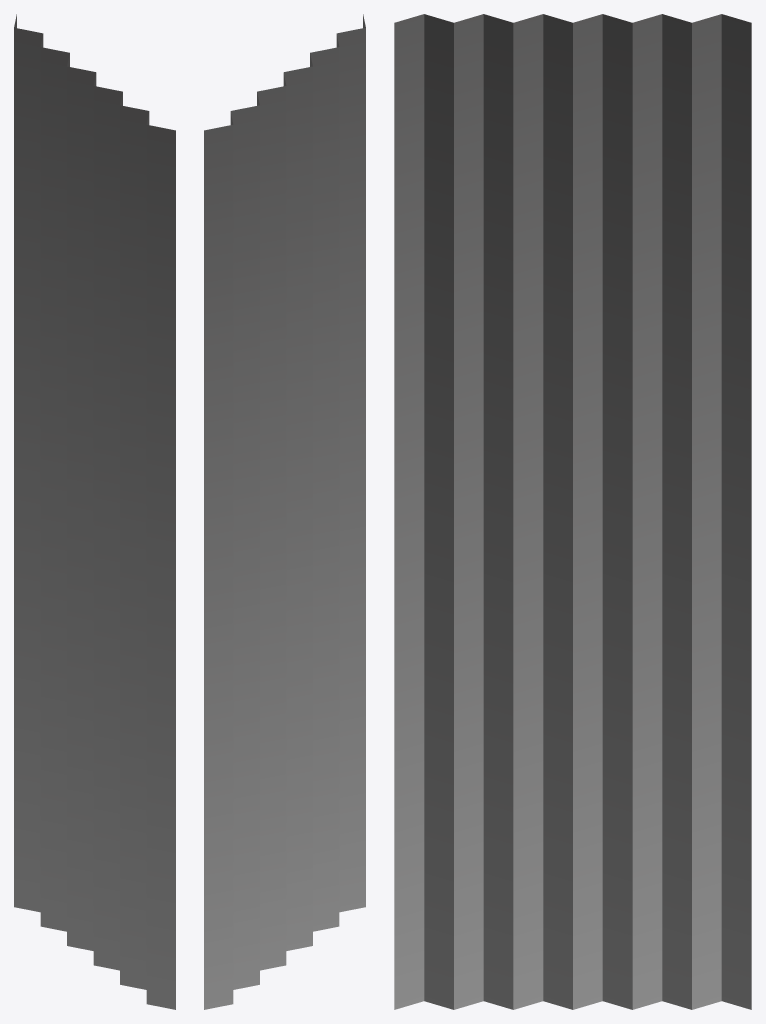
File: B01_wall_4.fbx
The picture shows the model from 3 angles, left to right: view 1: azimuth 30°, elevation 25°; view 2: azimuth 150°, elevation 25°; view 3: azimuth 270°, elevation 25°; orthographic projection. The views are drawn at different scales.
Visible parts, largest first — view 1: B01_wall_4; view 2: B01_wall_4; view 3: B01_wall_4.
Boxes of the visible parts, x1,y1,x2,y2 form: B01_wall_4: [14, 14, 175, 1009]; B01_wall_4: [204, 14, 365, 1009]; B01_wall_4: [394, 14, 751, 1009].
Bounding box in the file's own units: 5.84 × 305 × 100.
